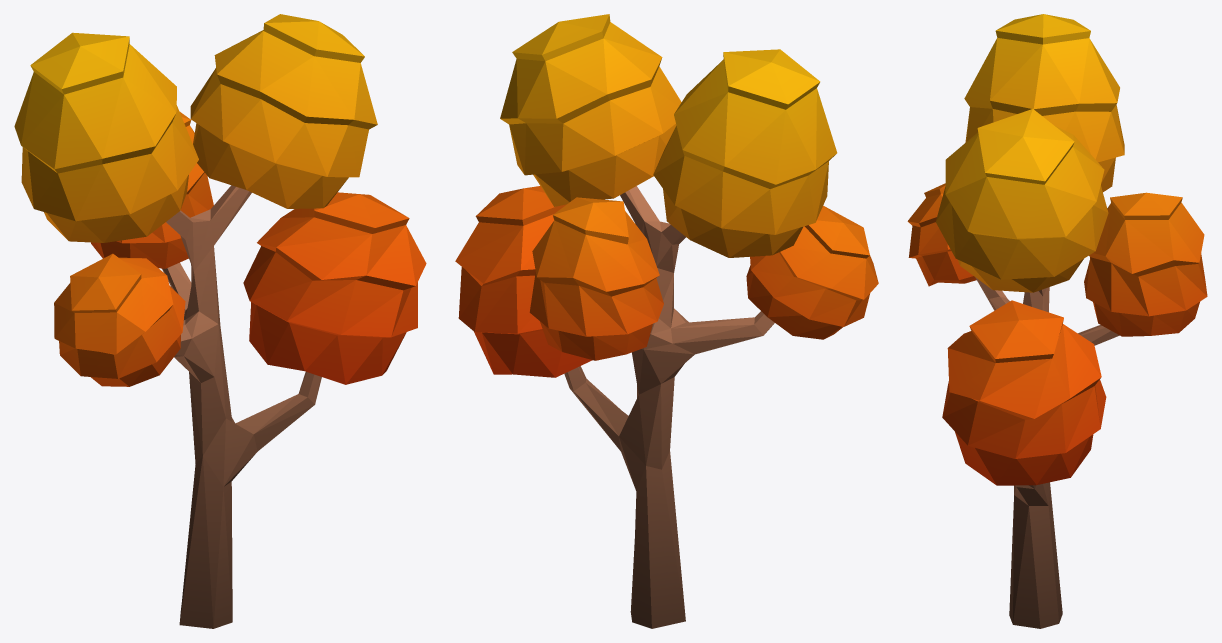
Rendered from autumn tree 12.fbx.
3 renders of one model, left to right at view 1: azimuth 30°, elevation 25°; view 2: azimuth 150°, elevation 25°; view 3: azimuth 270°, elevation 25°, orthographic. The views are drawn at different scales.
Parts seen in each view (by area): view 1: autumn tree 12; view 2: autumn tree 12; view 3: autumn tree 12.
Part boxes in pixels (box(x1,y1,x2,y2)): autumn tree 12: box(14, 14, 426, 628); autumn tree 12: box(455, 14, 878, 628); autumn tree 12: box(907, 14, 1207, 628).
Size of the model in its own units: 543 by 807 by 399.
